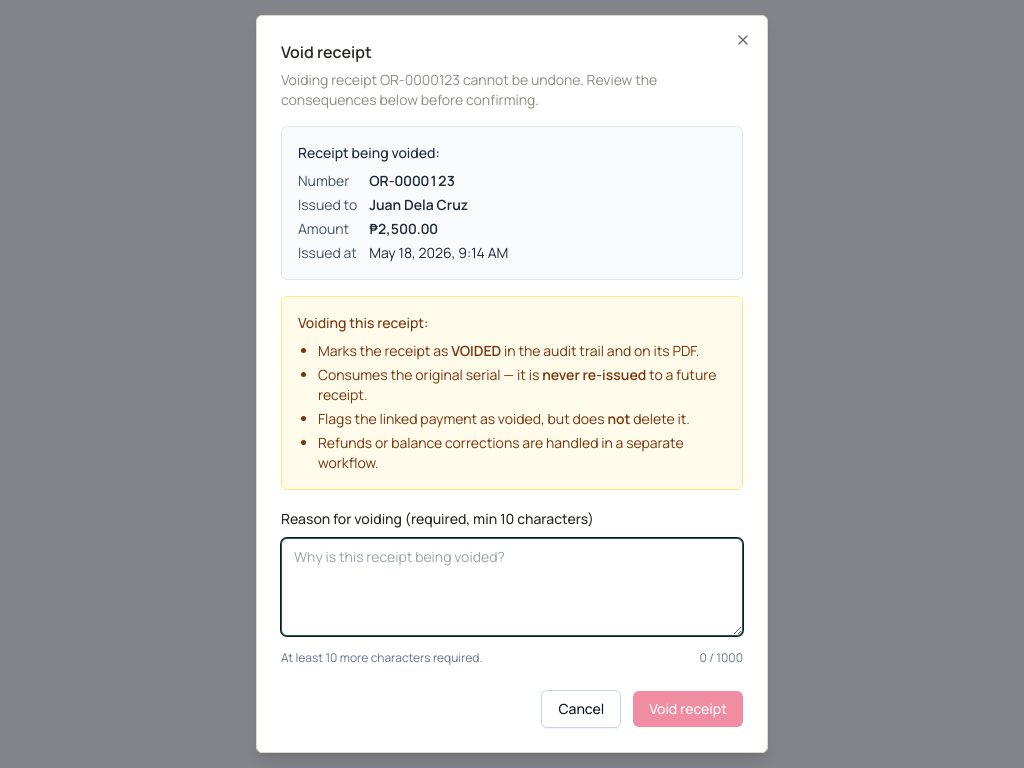
Test: VoidReceiptDialog › surfaces mutation errors inline as role=alert without locking submit
The width and height of the screenshot is (1024, 768).
Type "Trying to void a receipt that was already voided." into the text box with test id "void-receipt-reason" at {"x": 512, "y": 587}, box [281,538,743,636]
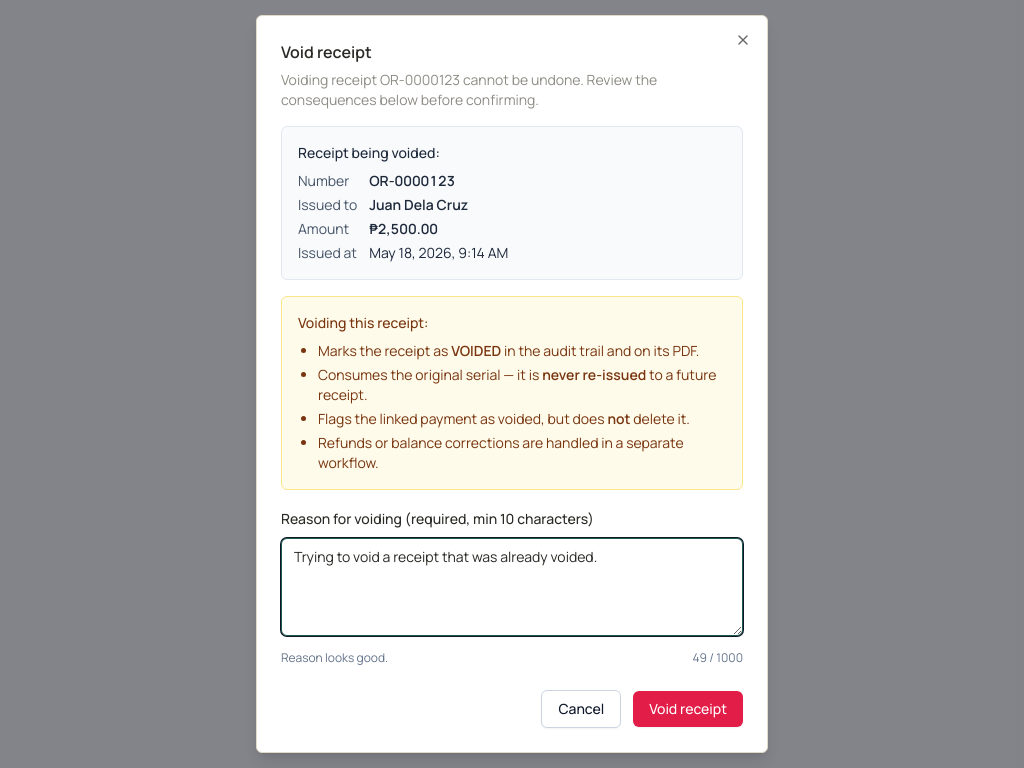
Click the button with test id "void-receipt-confirm" at {"x": 688, "y": 709}, box [633,691,743,727]
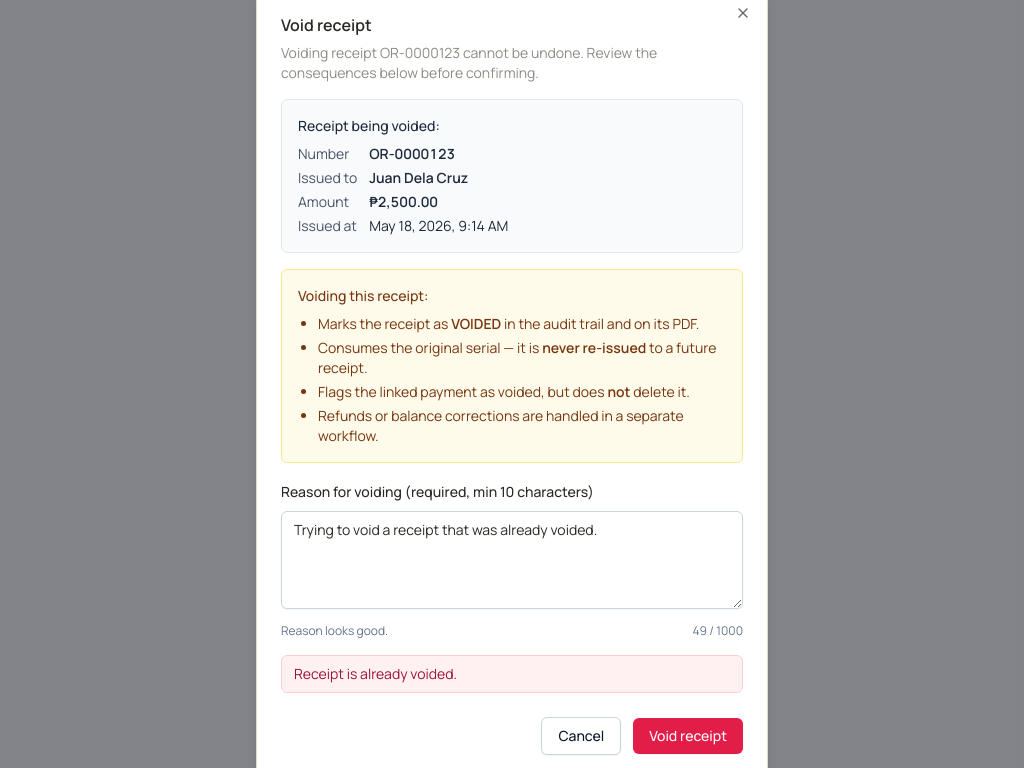
Result: the button with test id "void-receipt-confirm" is enabled at [633,718,743,754]
Result: the message reads "Receipt is already voided." at [294,664,457,683]
